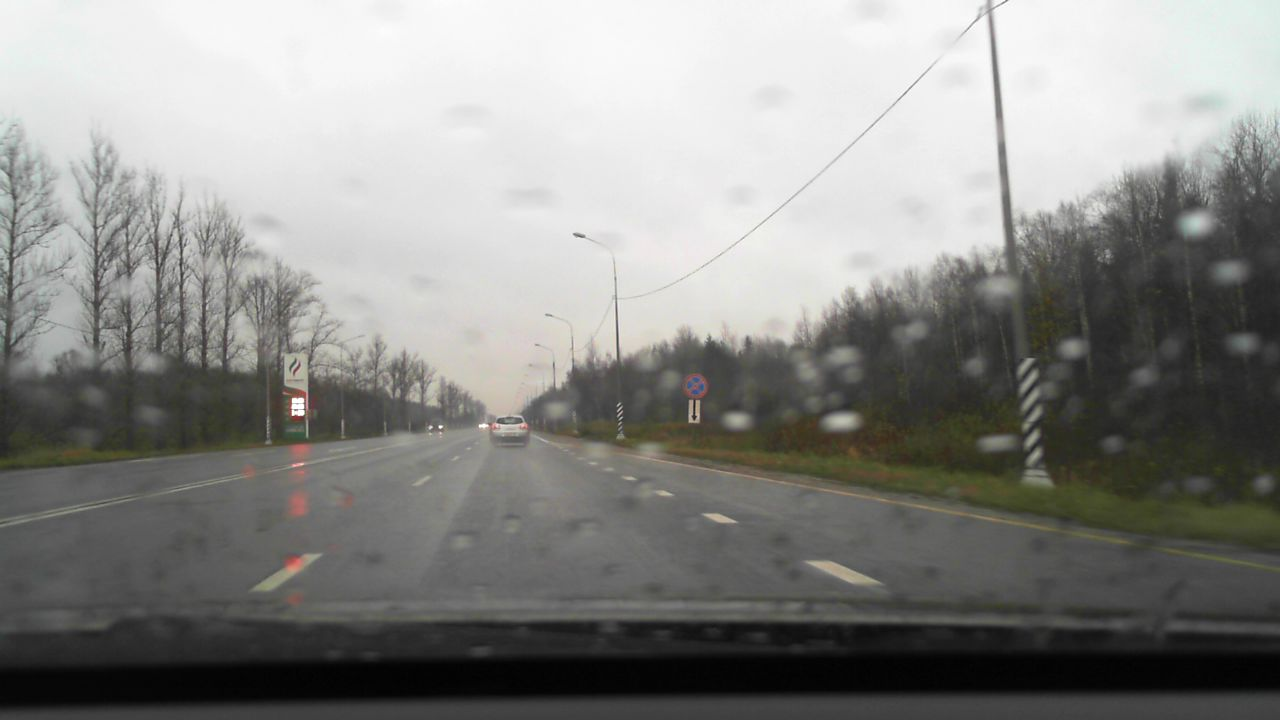No Parking: (682, 373, 708, 399)
